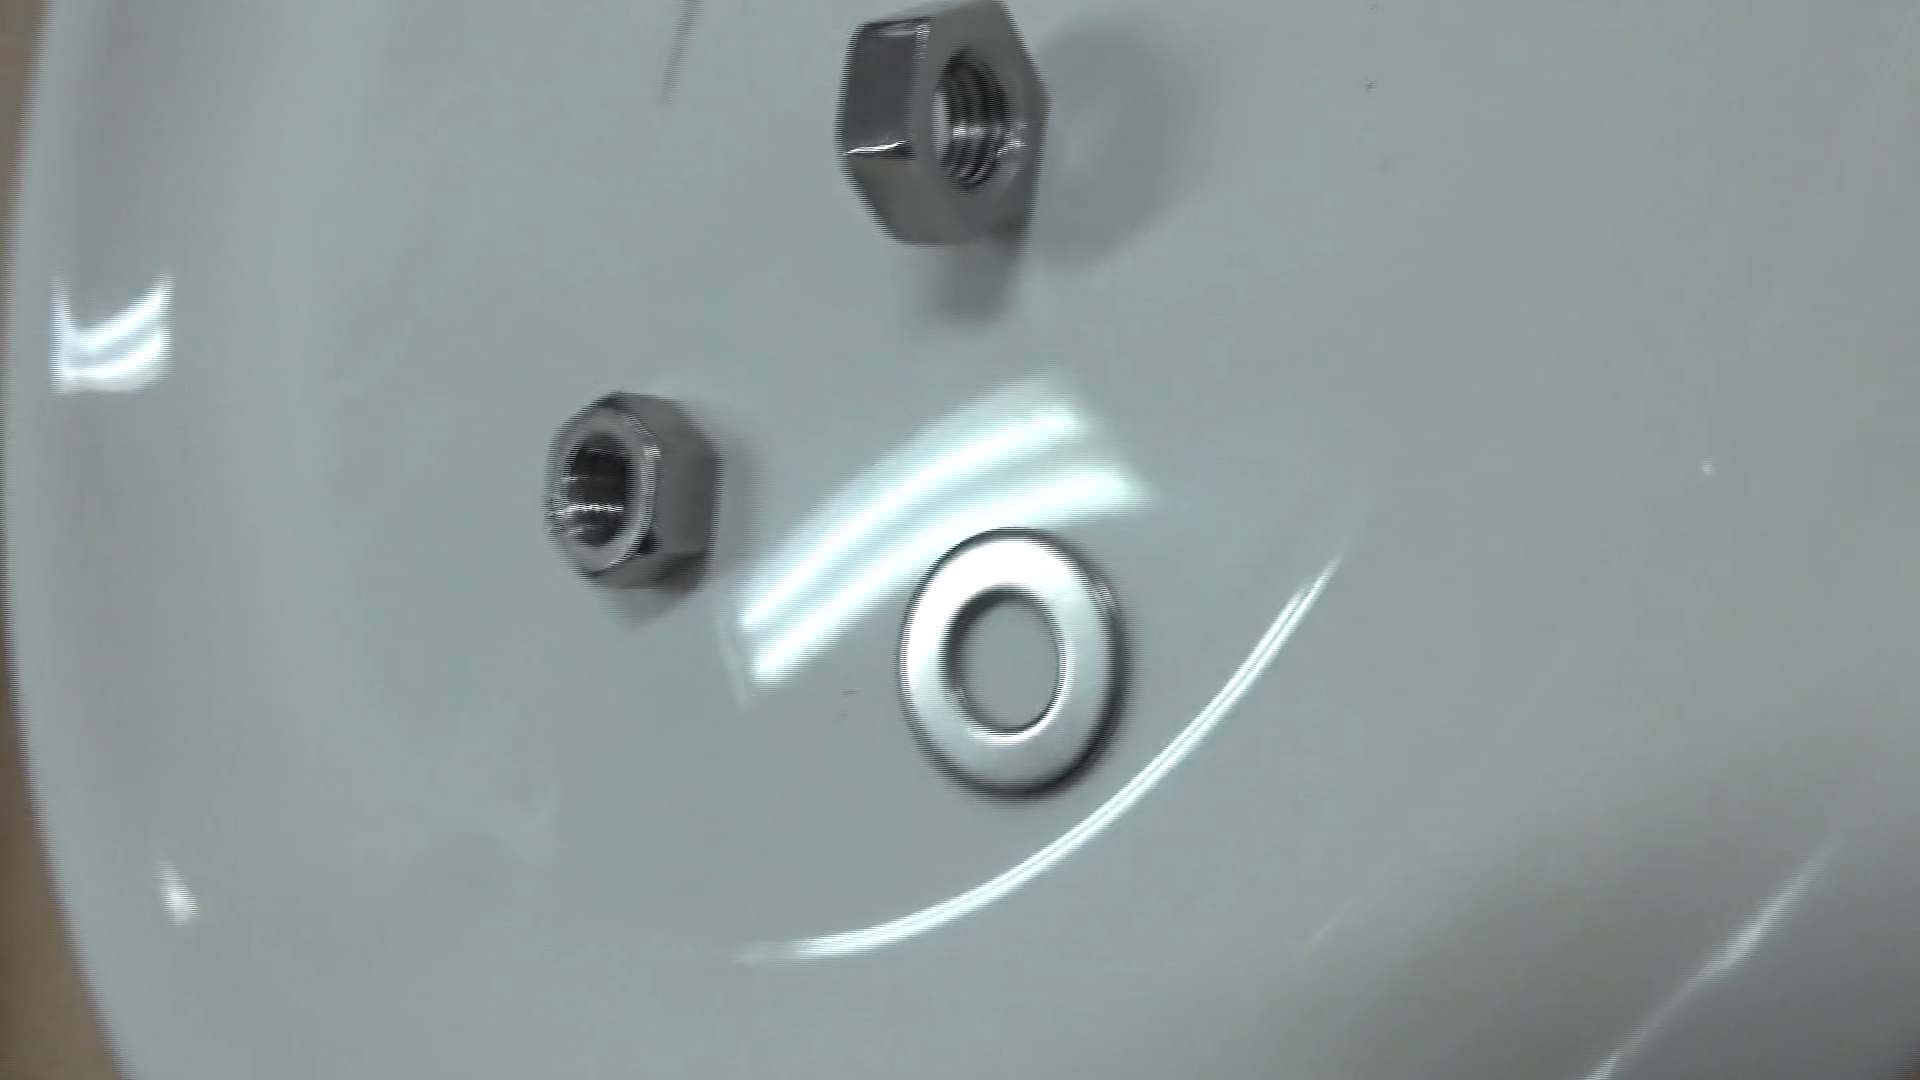nut: (800, 0, 1062, 284), (502, 356, 746, 622)
washer: (858, 487, 1160, 825)
